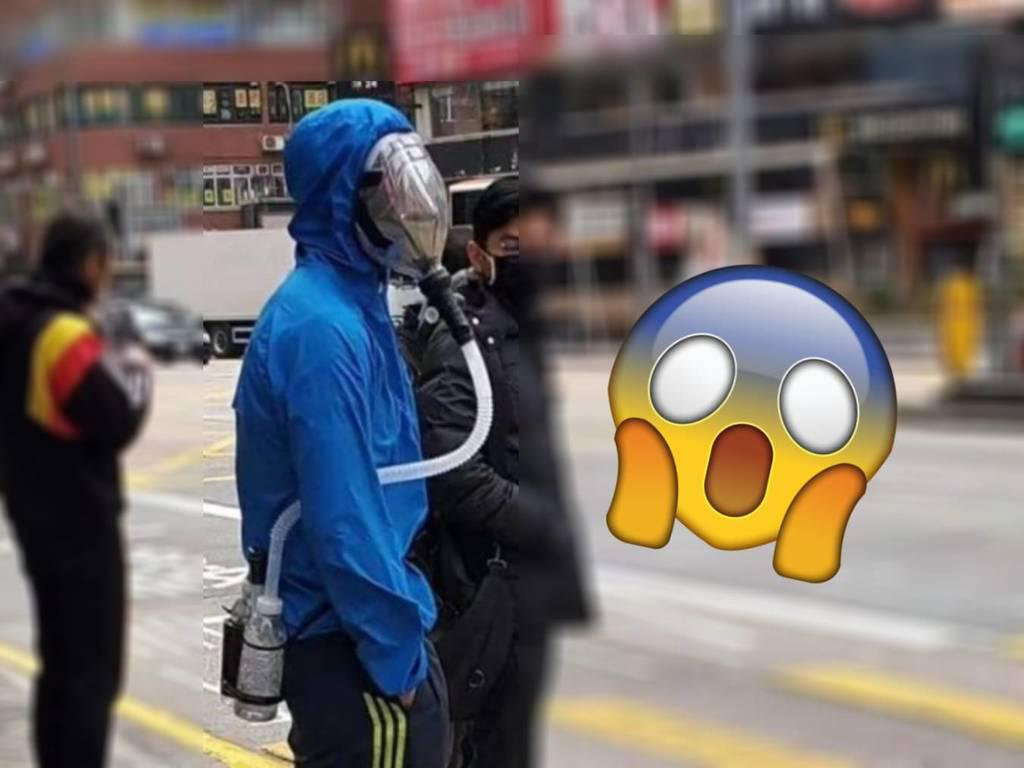mask: (367, 166, 454, 277), (483, 224, 561, 319)
